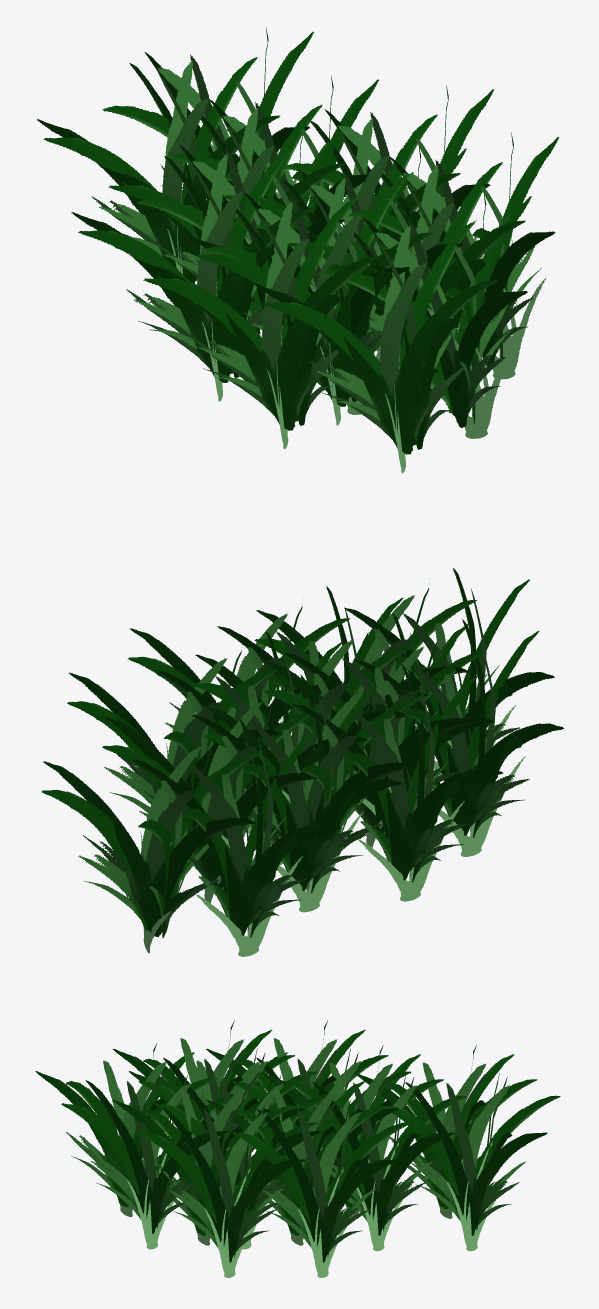
File: Grassclump_001.fbx
The picture shows the model from 3 angles, top to bottom: view 1: azimuth 30°, elevation 25°; view 2: azimuth 150°, elevation 25°; view 3: azimuth 270°, elevation 25°; orthographic projection. The views are drawn at different scales.
Visible parts, largest first — view 1: grassclump_001; view 2: grassclump_001; view 3: grassclump_001.
Boxes of the visible parts, x1,y1,x2,y2 form: grassclump_001: (37,28,559,473); grassclump_001: (41,568,564,956); grassclump_001: (35,1020,560,1277).
Size of the model in its own units: 11.17 by 5.75 by 15.66.
1 material, 1 textured.
